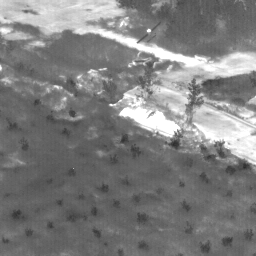aircraft: (148, 30, 150, 32)
